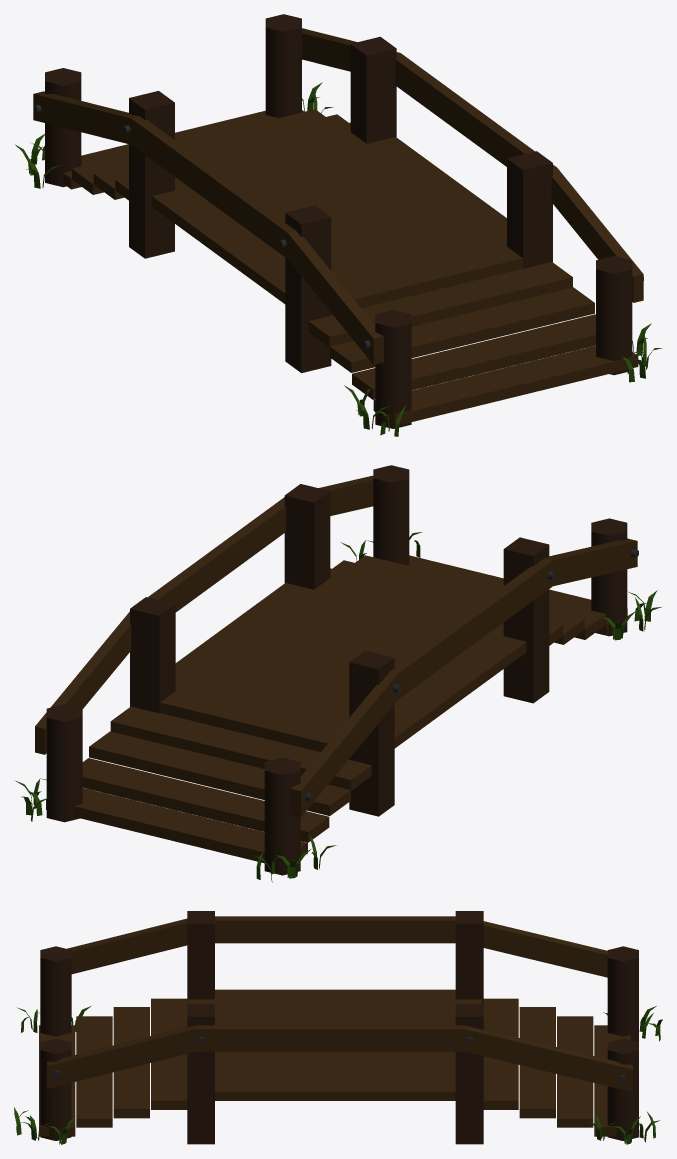
Rendered from bridge1.FBX.
The picture shows the model from 3 angles, top to bottom: view 1: azimuth 30°, elevation 25°; view 2: azimuth 150°, elevation 25°; view 3: azimuth 270°, elevation 25°; orthographic projection. The views are drawn at different scales.
Parts seen in each view (by area): view 1: bridge; view 2: bridge; view 3: bridge.
Boxes of the visible parts, x1,y1,x2,y2 form: bridge: [15, 14, 662, 436]; bridge: [15, 465, 661, 882]; bridge: [14, 911, 662, 1144].
Size of the model in its own units: 104 by 47.36 by 218.
